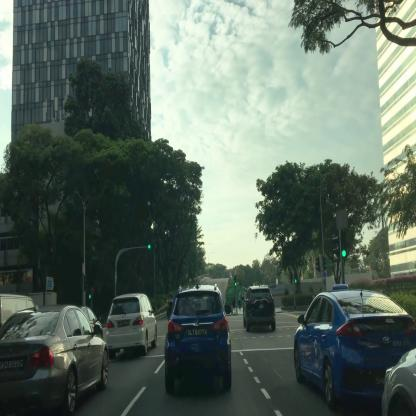green_traffic_light: (339, 229, 346, 259), (148, 242, 155, 250), (234, 274, 237, 287)
